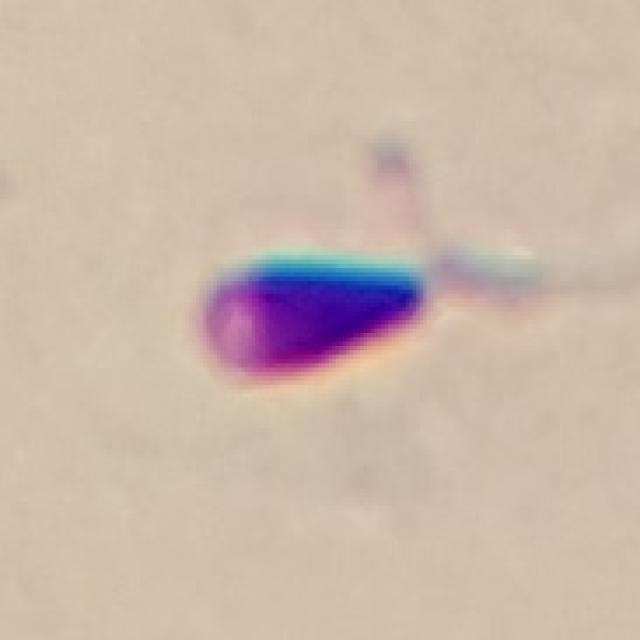abnormal sperm: (201, 254, 539, 394)
